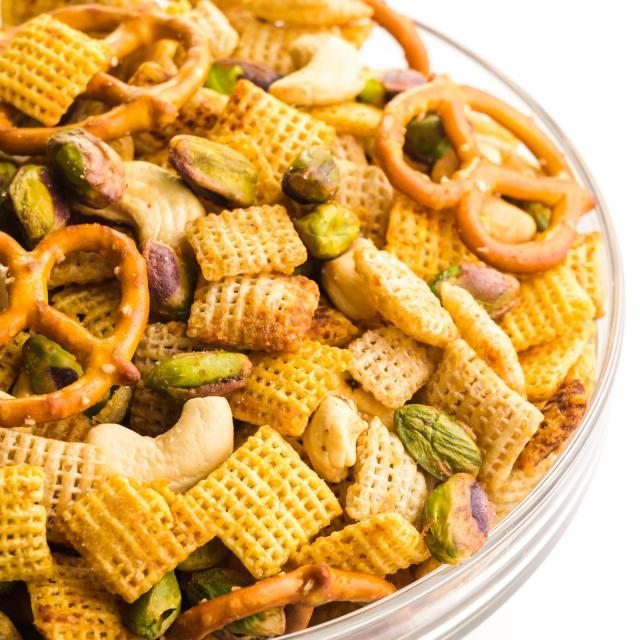Salatini: (9, 6, 598, 631)
